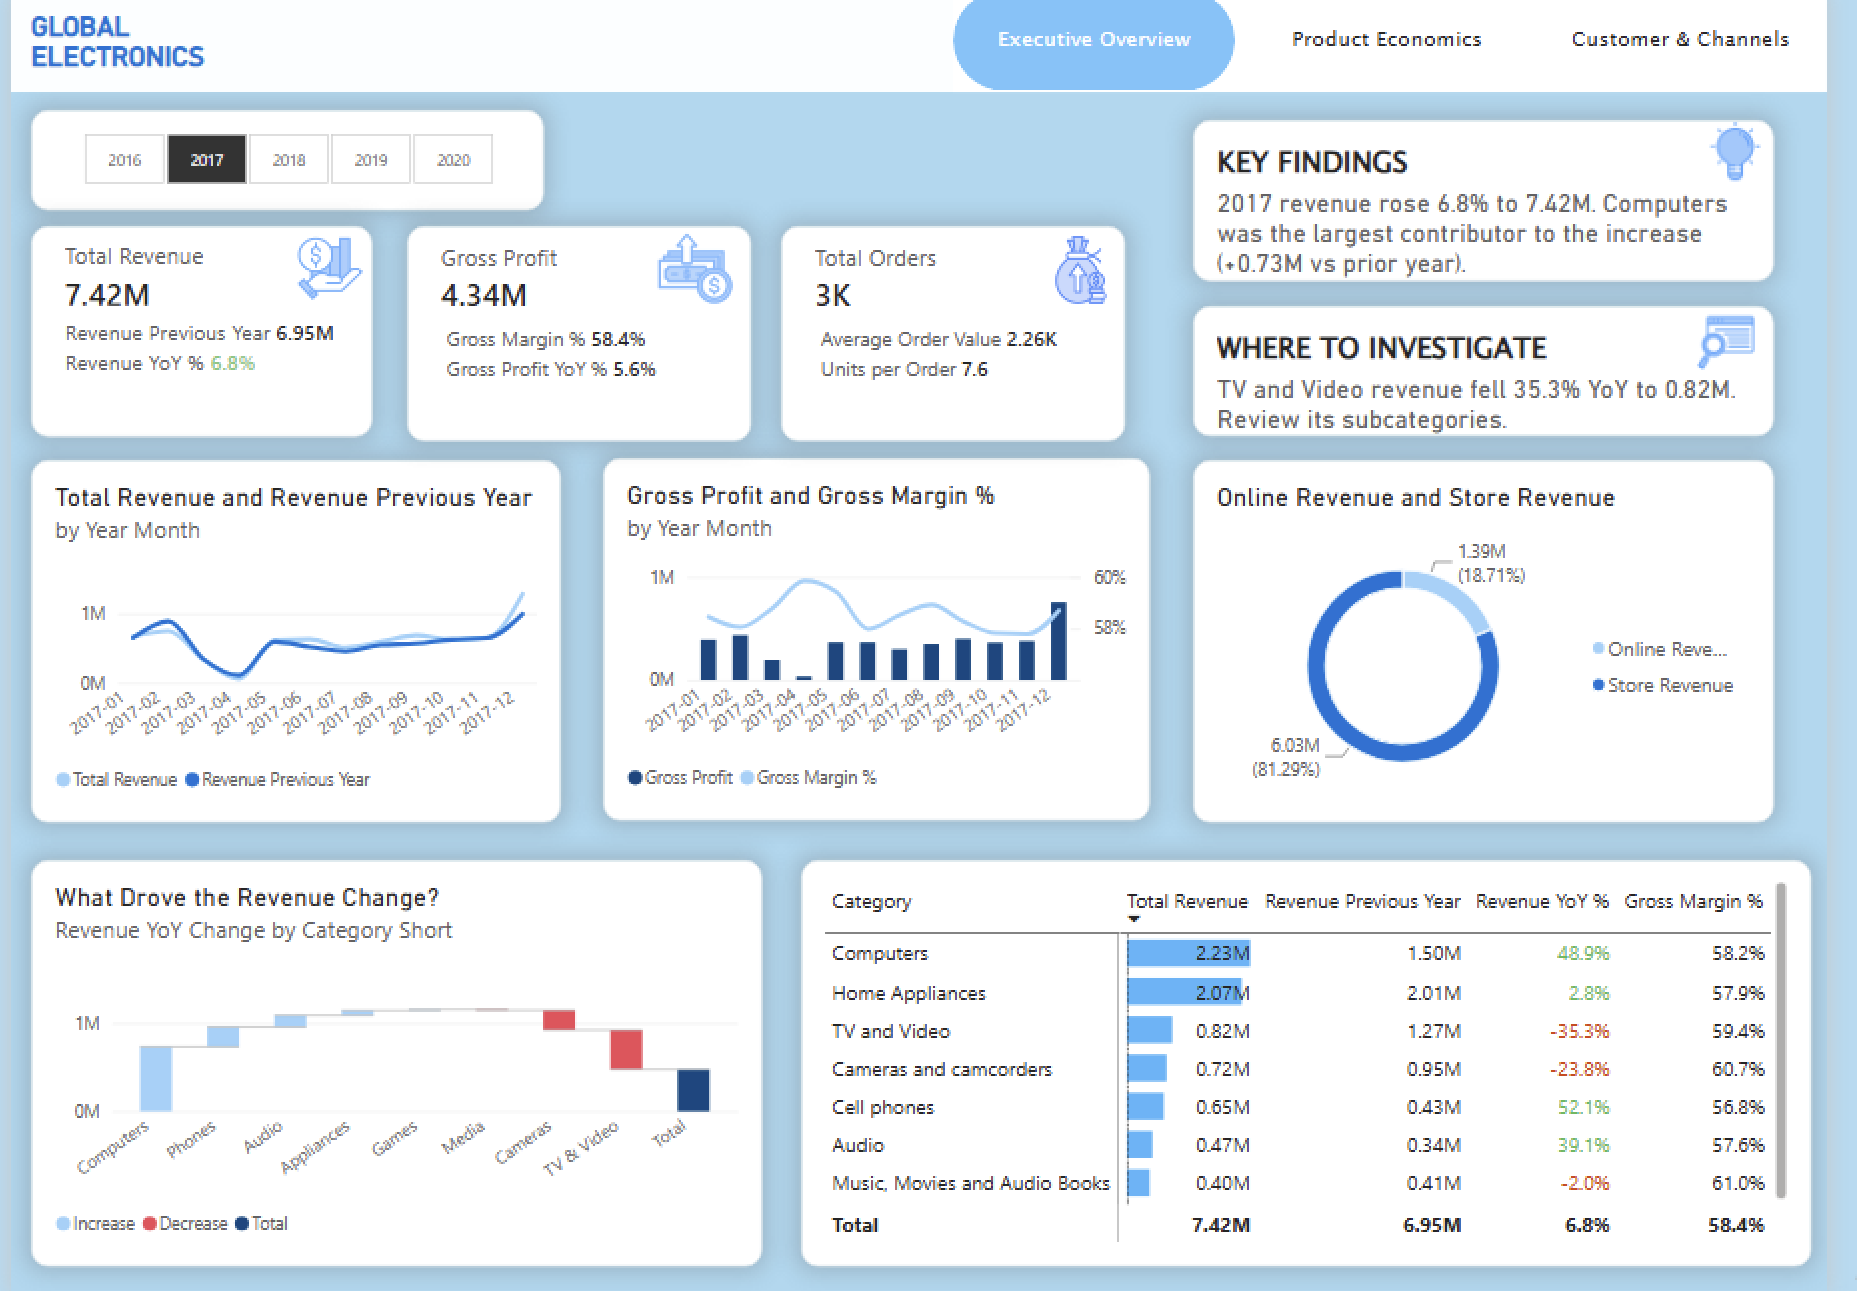

What the dashboard file says about the page in this screenshot:
{"tool":"powerbi","page":{"name":" Executive Overview","canvas":[1280,920],"ordinal":0},"visuals":[{"type":"slicer","fields":{"Values":["dimDate.Year"]},"box":[14.3,84.1,361.9,71.4],"z":0},{"type":"cardVisual","fields":{"Data":["factSales.Total Revenue"]},"box":[14.3,166.7,241.4,148.5],"z":1000},{"type":"lineChart","fields":{"Category":["dimDate.Year Month"],"Y":["factSales.Total Revenue","factSales.Revenue Previous Year"]},"box":[14.3,331.7,373.8,256.2],"z":2000},{"type":"donutChart","fields":{"Y":["factSales.Online Revenue","factSales.Store Revenue"]},"box":[833.3,331.7,409.5,255.6],"z":3000},{"type":"lineClusteredColumnComboChart","fields":{"Category":["dimDate.Year Month"],"Y":["factSales.Gross Profit"],"Y2":["factSales.Gross Margin %"]},"box":[417.5,330.2,386.4,255.7],"z":4000},{"type":"waterfallChart","title":"What Drove the Revenue Change?","fields":{"Category":["dimProducts.Category Short"],"Y":["factSales.Revenue YoY Change"]},"box":[14.3,614.3,515.9,287.3],"z":5000},{"type":"pivotTable","fields":{"Rows":["dimProducts.Category"],"Values":["factSales.Total Revenue","factSales.Revenue Previous Year","factSales.Revenue YoY %","factSales.Gross Margin %"]},"box":[557.1,614.3,712.7,287.3],"z":6000},{"type":"cardVisual","fields":{"Data":["factSales.Gross Profit"]},"box":[279.4,166.7,242.6,152.3],"z":7000},{"type":"cardVisual","fields":{"Data":["factSales.Total Orders"]},"box":[542.9,166.7,242.6,152.3],"z":8000},{"type":"shape","box":[0,0,1920,72.4],"z":9000},{"type":"pageNavigator","box":[664.8,0,615.5,71.8],"z":10000},{"type":"image","box":[201.6,166.7,46.5,60.4],"z":11000},{"type":"image","box":[455.6,166.7,54.1,60.4],"z":12000},{"type":"image","box":[725.4,173,59.1,47.8],"z":13000},{"type":"textbox","title":"KEY FINDINGS","box":[833.8,91.5,409.9,114.1],"z":14000},{"type":"textbox","title":"WHERE TO INVESTIGATE","box":[833.8,222.5,409.9,91.5],"z":15000},{"type":"image","box":[1190.1,226.8,40.8,42.3],"z":16000},{"type":"image","box":[1190.1,91.5,53.5,43.7],"z":17000},{"type":"textbox","box":[14.1,14.1,162,43.7],"z":18000}]}

Visuals, with their boxes on the page's 1280x920 design canvas (x1, y1, x2, y2). These are canvas units, not pixel positions in the 1857x1291 screenshot, which may show the page scaled, cropped or inside an application window:
slicer - dimDate.Year: bbox(14, 84, 376, 156)
cardVisual - factSales.Total Revenue: bbox(14, 167, 256, 315)
lineChart - dimDate.Year Month x factSales.Total Revenue: bbox(14, 332, 388, 588)
donutChart - factSales.Online Revenue x factSales.Store Revenue: bbox(833, 332, 1243, 587)
lineClusteredColumnComboChart - dimDate.Year Month x factSales.Gross Profit: bbox(418, 330, 804, 586)
"What Drove the Revenue Change?" waterfallChart: bbox(14, 614, 530, 902)
pivotTable - dimProducts.Category x factSales.Total Revenue: bbox(557, 614, 1270, 902)
cardVisual - factSales.Gross Profit: bbox(279, 167, 522, 319)
cardVisual - factSales.Total Orders: bbox(543, 167, 786, 319)
shape: bbox(0, 0, 1920, 72)
pageNavigator: bbox(665, 0, 1280, 72)
image: bbox(202, 167, 248, 227)
image: bbox(456, 167, 510, 227)
image: bbox(725, 173, 784, 221)
"KEY FINDINGS" textbox: bbox(834, 92, 1244, 206)
"WHERE TO INVESTIGATE" textbox: bbox(834, 222, 1244, 314)
image: bbox(1190, 227, 1231, 269)
image: bbox(1190, 92, 1244, 135)
textbox: bbox(14, 14, 176, 58)
